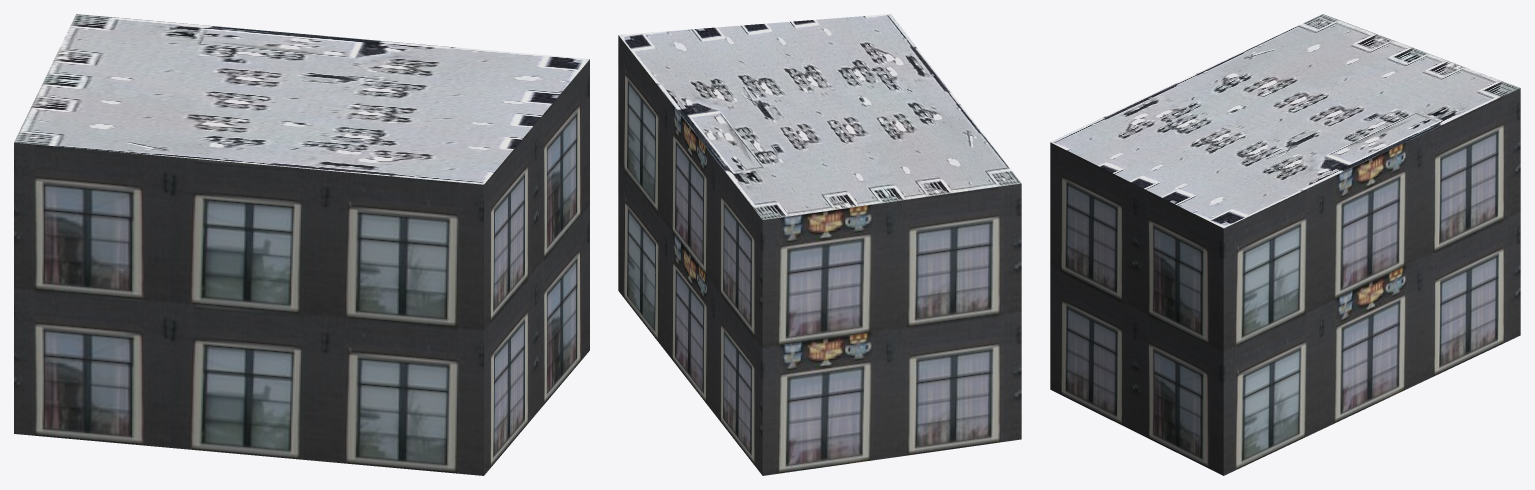
Rendered from ResTex__2524.fbx.
The picture shows the model from 3 angles, left to right: view 1: azimuth 30°, elevation 25°; view 2: azimuth 150°, elevation 25°; view 3: azimuth 270°, elevation 25°; orthographic projection. The views are drawn at different scales.
Visible parts, largest first — view 1: CityEngineMaterial_22_m, CityEngineMaterial_m; view 2: CityEngineMaterial_22_m, CityEngineMaterial_m; view 3: CityEngineMaterial_22_m, CityEngineMaterial_m.
Part boxes in pixels (bbox=[...]): CityEngineMaterial_22_m: bbox=[14, 59, 589, 475]; CityEngineMaterial_m: bbox=[14, 14, 589, 184]; CityEngineMaterial_22_m: bbox=[618, 35, 1021, 475]; CityEngineMaterial_m: bbox=[618, 14, 1021, 219]; CityEngineMaterial_22_m: bbox=[1050, 88, 1520, 475]; CityEngineMaterial_m: bbox=[1050, 14, 1519, 228].
Size of the model in its own units: 11.16 by 6 by 10.34.
Materials: 2 (2 with a texture image).
